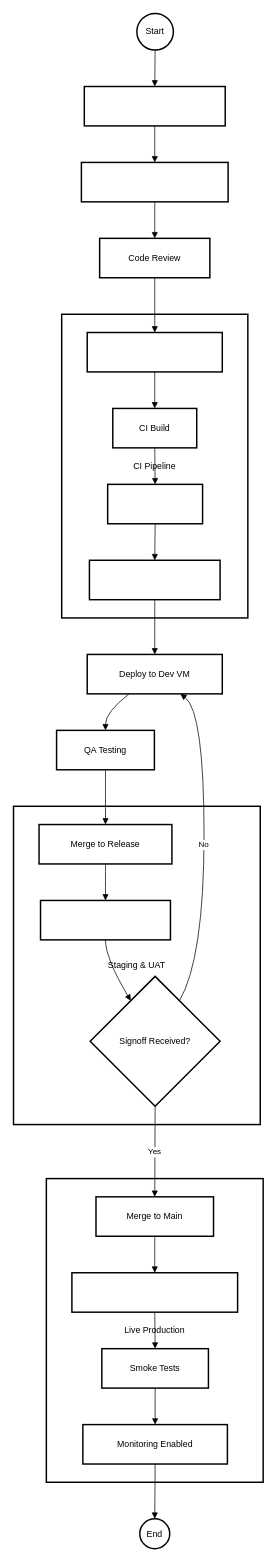
The diagram is 276 pixels wide and 1561 high, and some of its shapes have lost their labels. Each missing label, with the centre of its shape:
"Create Pull Request" belongs at pixel 154 181.
"Developer Commit" belongs at pixel 154 105.
"Integration Tests" belongs at pixel 154 579.
"Merge to Develop" belongs at pixel 154 351.
"Production Deployment" belongs at pixel 154 1292.
"UAT Deployment" belongs at pixel 105 919.
"Unit Tests" belongs at pixel 155 503.
